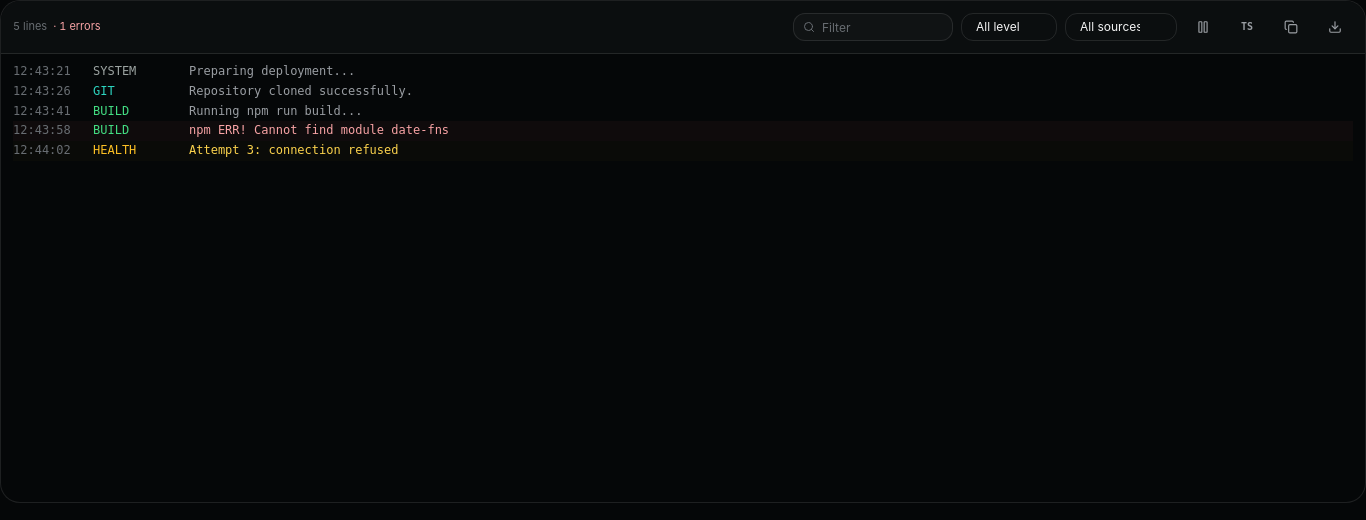
Test: LogTerminal › can toggle timestamps off for narrow screens
Expected: the text "12:43:21" is shown, [13,62,93,82]
Click the button with aria-label "Toggle timestamps" at (1247, 27), box [1229,9,1265,45]
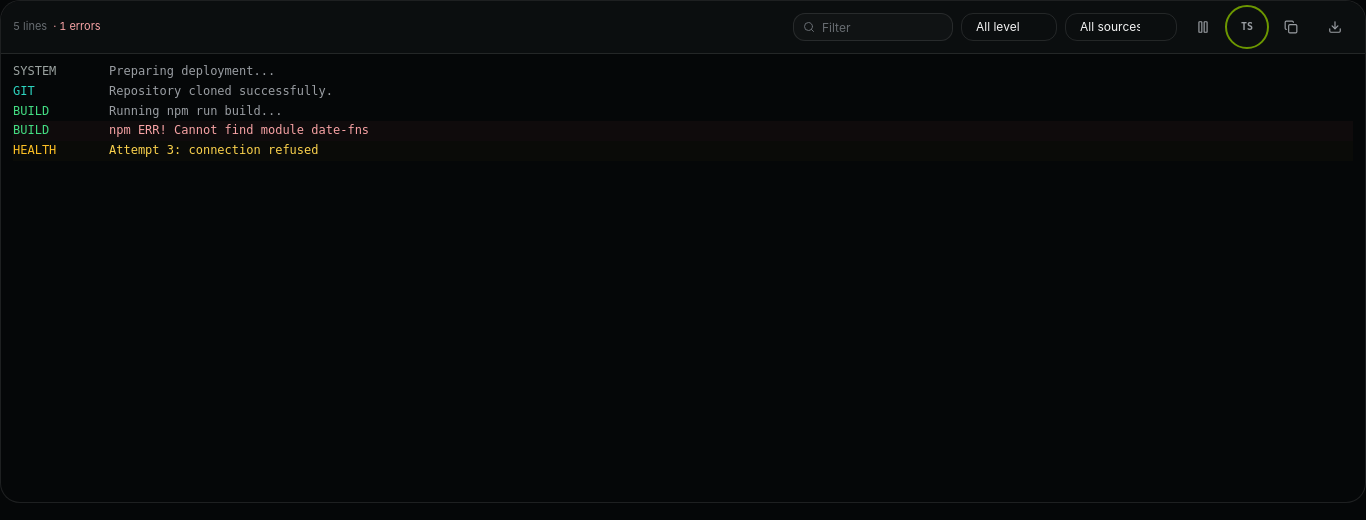
Expected: the text "12:43:21" is gone
